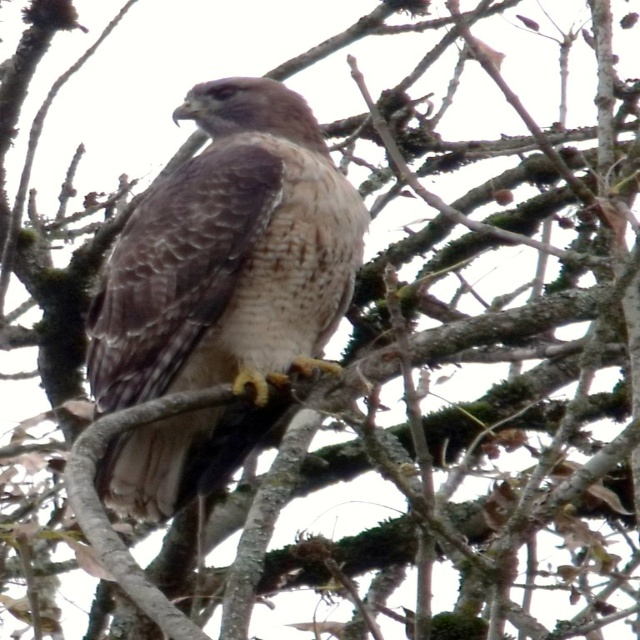Eagle: (84, 76, 372, 524)
